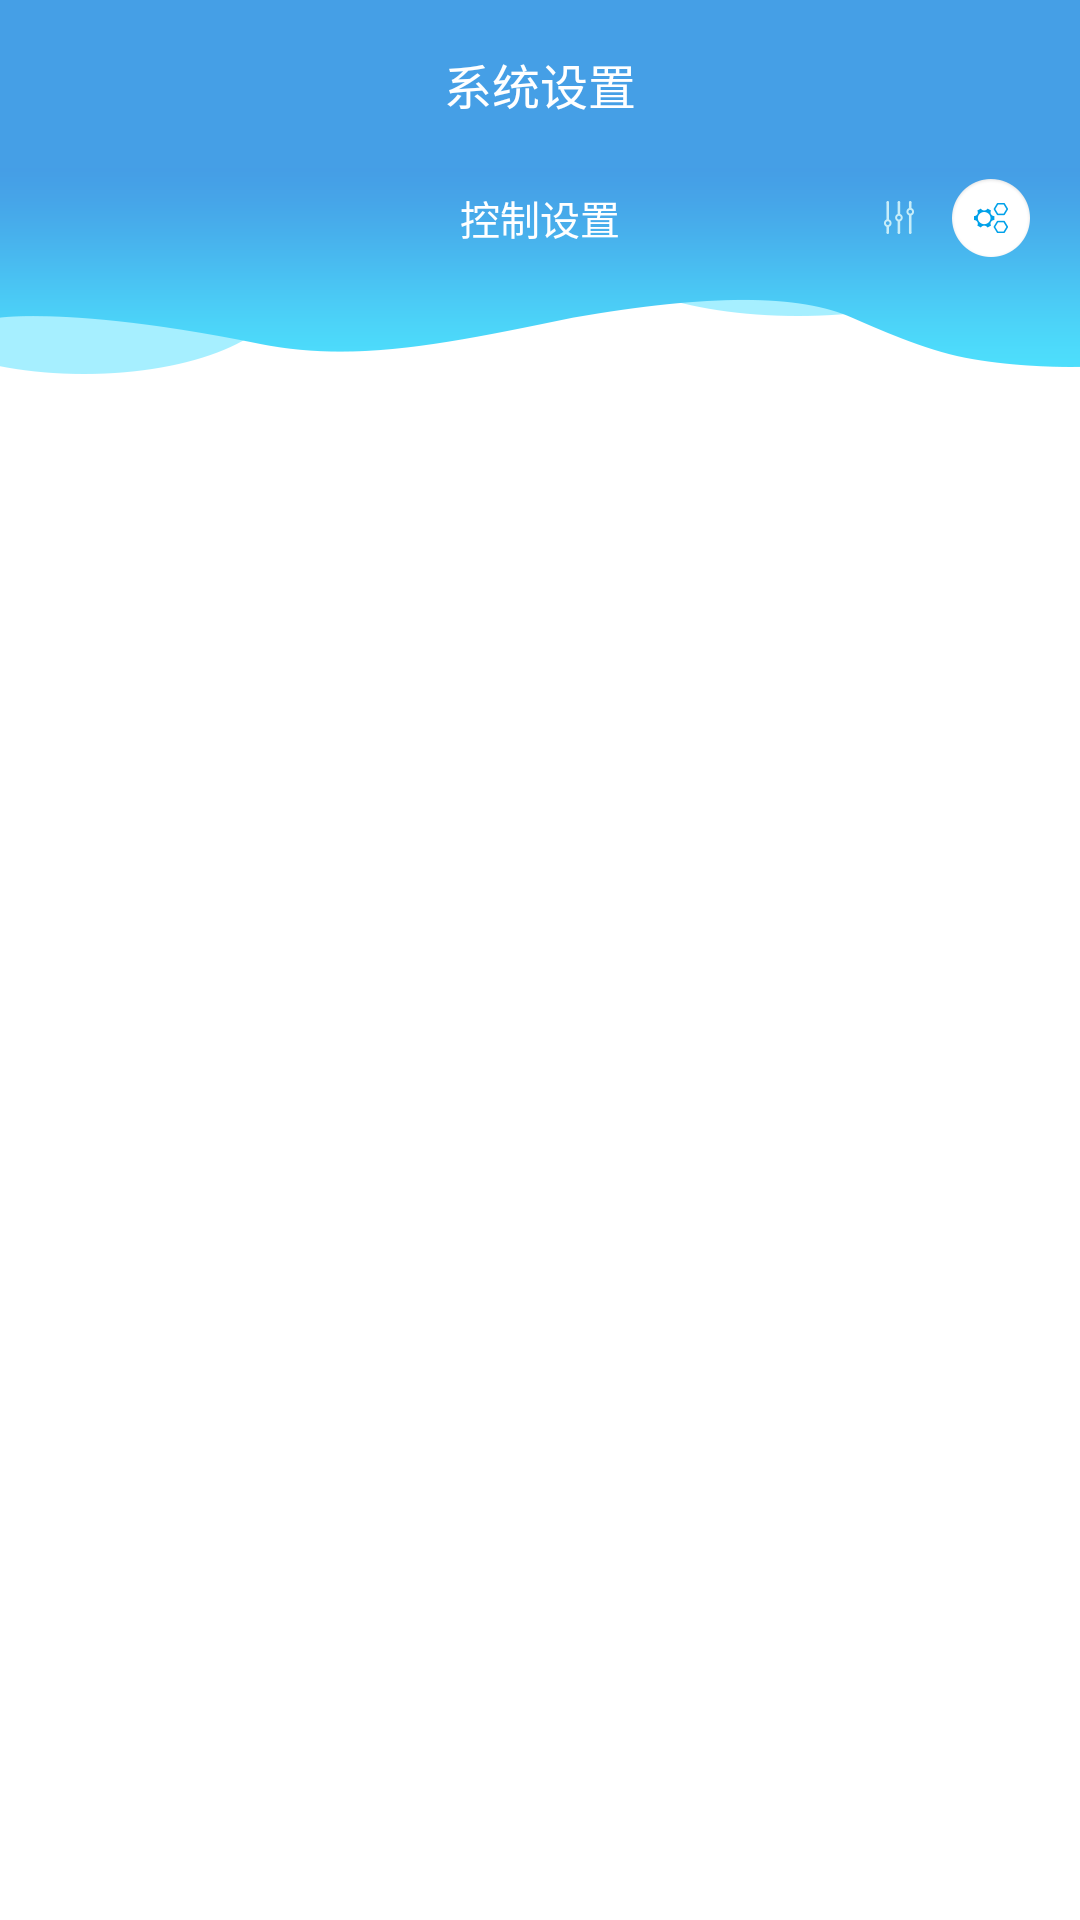

Named icons in this screenshot (1080×1920) and their bounding boxes, (x1, y1, x2, y2):
setting control highliht: (952, 179, 1030, 268)
